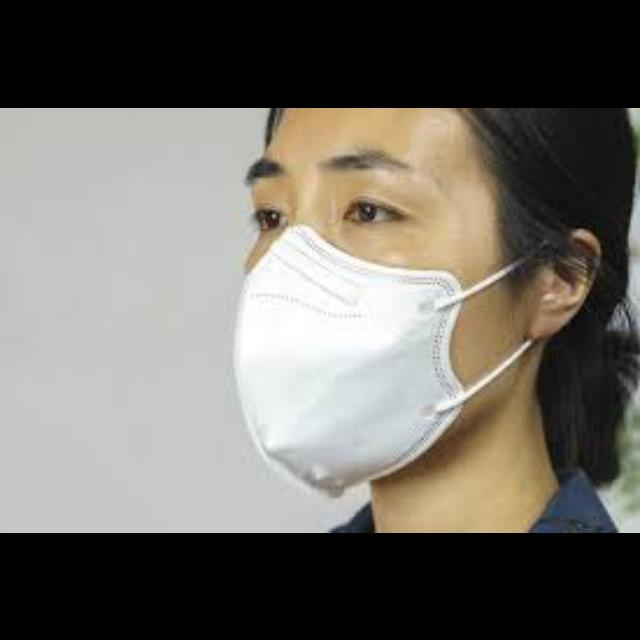masks: (231, 223, 535, 509)
